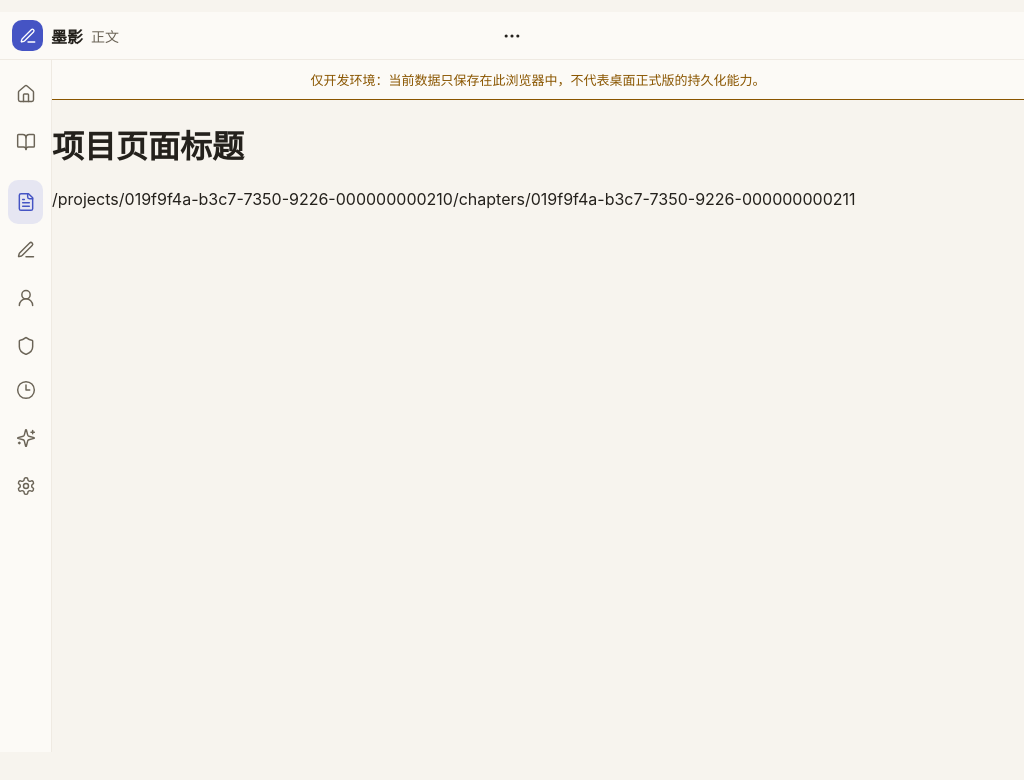
DesktopShell › keeps direct mode Chinese-only while retaining the four project areas
The image size is (1024, 780).
Expected: the link with aria-label "墨影开始创作" reads "墨影", [12, 20, 83, 51]
Expected: the link named "创作首页" is shown, [16, 84, 36, 104]
Type keys "{Control>}k{/Control}"
Click the button named "打开更多选项": [512, 36] box [492, 16, 532, 56]
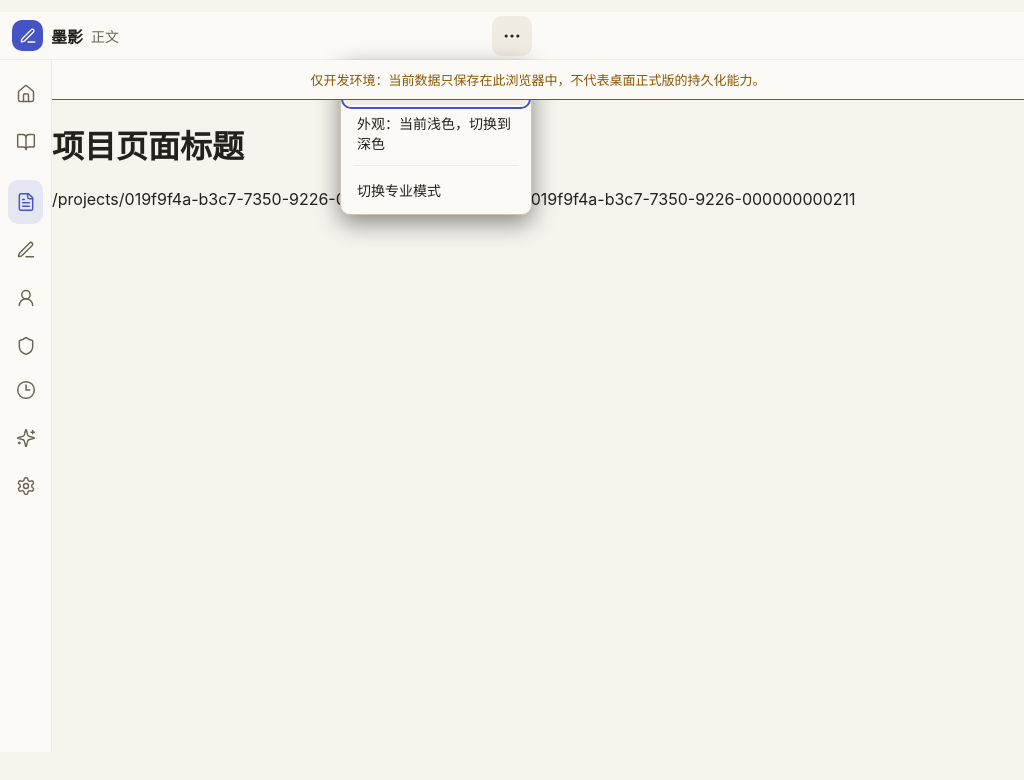
Expected: the menu named "更多选项" is shown, [340, 60, 532, 214]
Expected: the menu item "外观：当前浅色，切换到深色" is shown, [345, 104, 527, 160]
Expected: the menu item "切换专业模式" is shown, [345, 170, 527, 210]
Press Escape
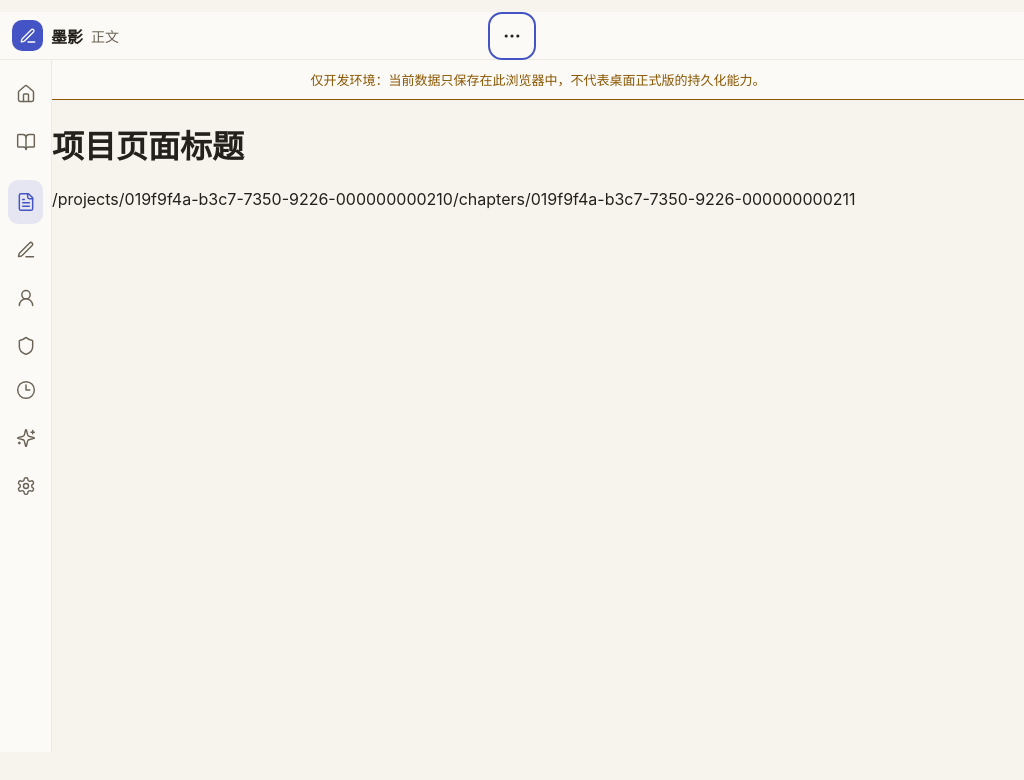
Expected: the menu "更多选项" is gone
